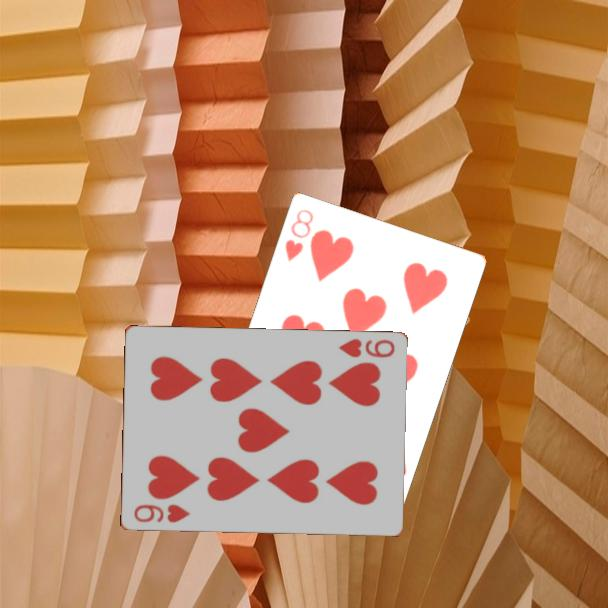h08: (281, 205, 316, 264)
h09: (130, 501, 193, 526), (335, 336, 397, 361)
